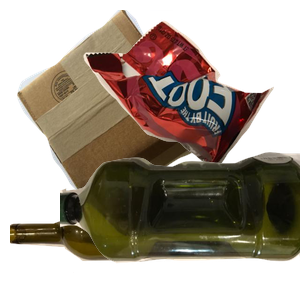cardboard: (14, 10, 222, 190)
glass: (10, 189, 250, 300)
plastic: (60, 149, 300, 300)
trash: (81, 18, 300, 182)
